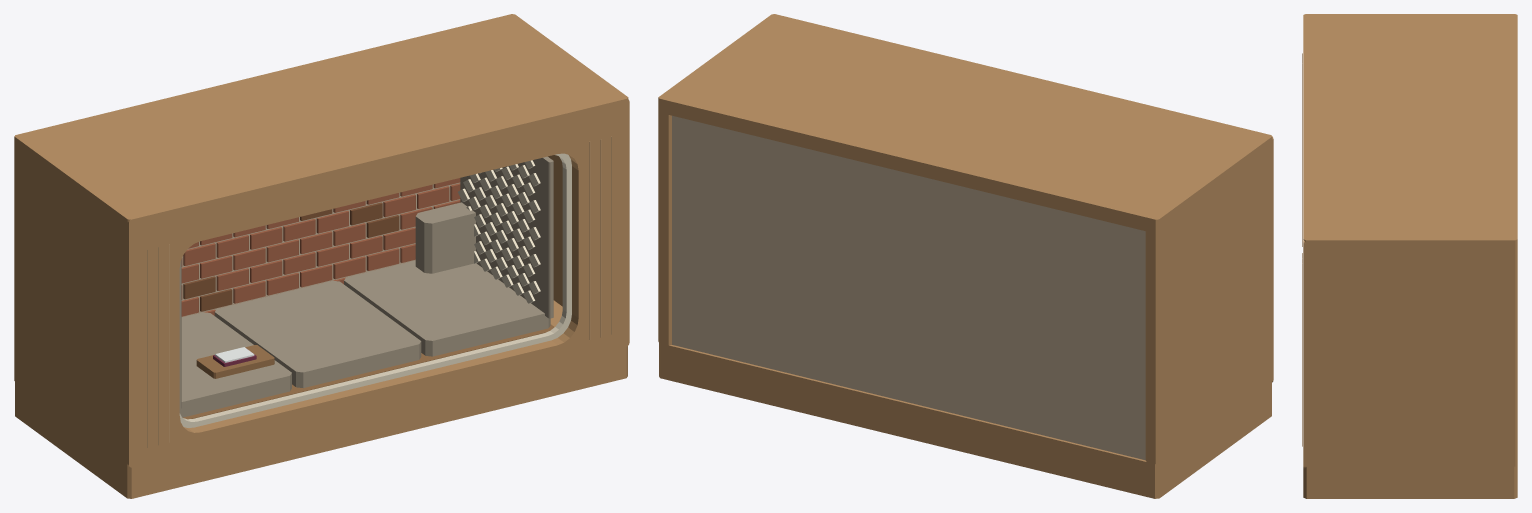
Rendered from gh_worklounge_pod_v01.glb.
The picture shows the model from 3 angles, left to right: view 1: azimuth 30°, elevation 25°; view 2: azimuth 150°, elevation 25°; view 3: azimuth 270°, elevation 25°; orthographic projection. The views are drawn at different scales.
Visible parts, largest first — view 1: Full depth oak lounge enclosure palette, Brick niche and tailored seating fabric, Brick niche and tailored seating palette, Full depth oak lounge enclosure fabric; view 2: Full depth oak lounge enclosure palette, Brick niche and tailored seating palette; view 3: Full depth oak lounge enclosure palette.
Boxes of the visible parts, left/top/right/bottom form: Full depth oak lounge enclosure palette: left=14, top=14, right=629, bottom=498; Brick niche and tailored seating fabric: left=179, top=156, right=553, bottom=417; Brick niche and tailored seating palette: left=181, top=178, right=554, bottom=419; Full depth oak lounge enclosure fabric: left=179, top=153, right=571, bottom=427; Full depth oak lounge enclosure palette: left=658, top=14, right=1273, bottom=498; Brick niche and tailored seating palette: left=672, top=115, right=1145, bottom=460; Full depth oak lounge enclosure palette: left=1302, top=14, right=1517, bottom=498.
Size of the model in its own units: 6 by 3.2 by 2.41.
Materials: 3 (3 with a texture image).
